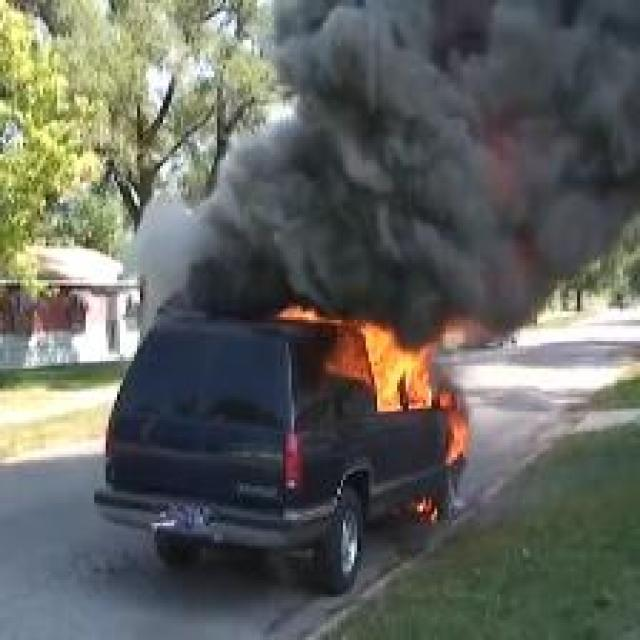Fire: (278, 307, 442, 410), (443, 392, 468, 468)
